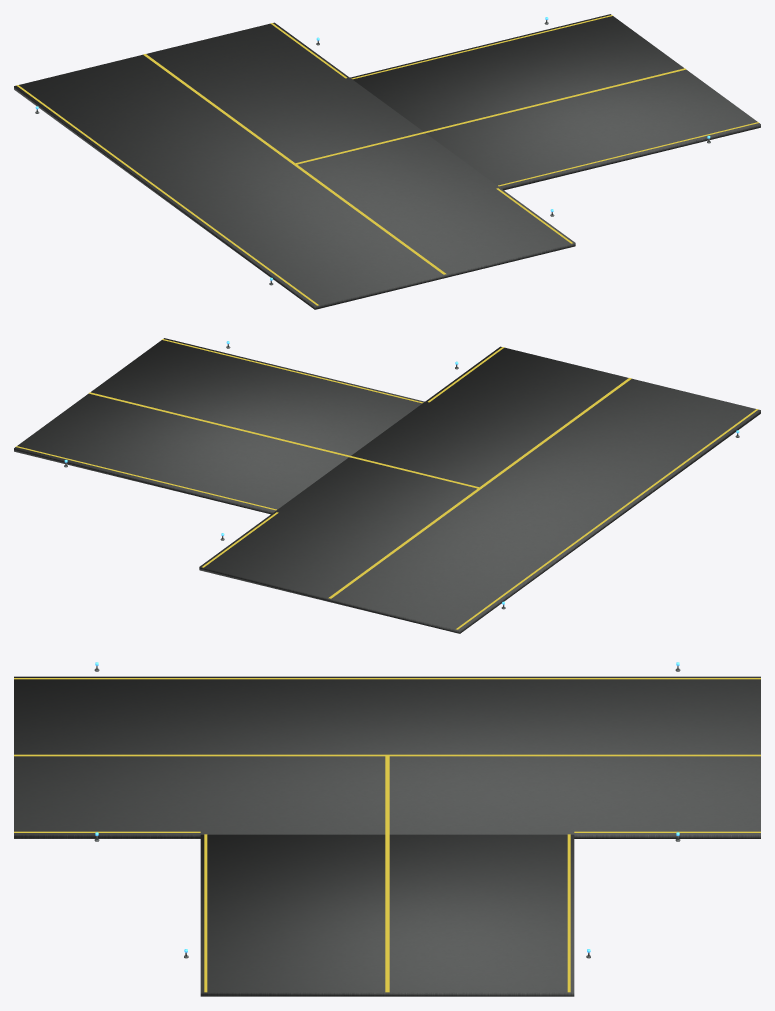
File: PZ_Taxiway_TJunction_36m.glb
3 renders of one model, top to bottom at view 1: azimuth 30°, elevation 25°; view 2: azimuth 150°, elevation 25°; view 3: azimuth 270°, elevation 25°, orthographic. The views are drawn at different scales.
Parts seen in each view (by area): view 1: TWY_T_Main_NS, TWY_T_Branch_EW, TWY_T_Centerline_NS, TWY_T_Centerline_EW, TWY_T_EdgeWest; view 2: TWY_T_Main_NS, TWY_T_Branch_EW, TWY_T_Centerline_NS, TWY_T_Centerline_EW, TWY_T_EdgeWest; view 3: TWY_T_Main_NS, TWY_T_Branch_EW, TWY_T_Centerline_NS, TWY_T_EdgeWest, TWY_T_Centerline_EW, TWY_T_BranchEdge_9.25, TWY_T_BranchEdge_26.75.
Part boxes in pixels (x1,y1,x2,y2): TWY_T_Main_NS: (14, 22, 575, 309); TWY_T_Branch_EW: (350, 14, 760, 190); TWY_T_Centerline_NS: (143, 54, 446, 274); TWY_T_Centerline_EW: (294, 68, 686, 164); TWY_T_EdgeWest: (16, 85, 318, 305); TWY_T_Main_NS: (199, 346, 760, 633); TWY_T_Branch_EW: (14, 338, 424, 514); TWY_T_Centerline_NS: (328, 378, 631, 598); TWY_T_Centerline_EW: (88, 392, 480, 488); TWY_T_EdgeWest: (456, 409, 758, 629); TWY_T_Main_NS: (14, 676, 760, 838); TWY_T_Branch_EW: (200, 834, 574, 996); TWY_T_Centerline_NS: (14, 754, 760, 756); TWY_T_EdgeWest: (14, 678, 760, 679); TWY_T_Centerline_EW: (385, 755, 389, 992); TWY_T_BranchEdge_9.25: (204, 834, 207, 992); TWY_T_BranchEdge_26.75: (567, 834, 570, 992).
Bounding box in the file's own units: 36.81 × 0.64 × 36.
4 materials, 3 textured.
